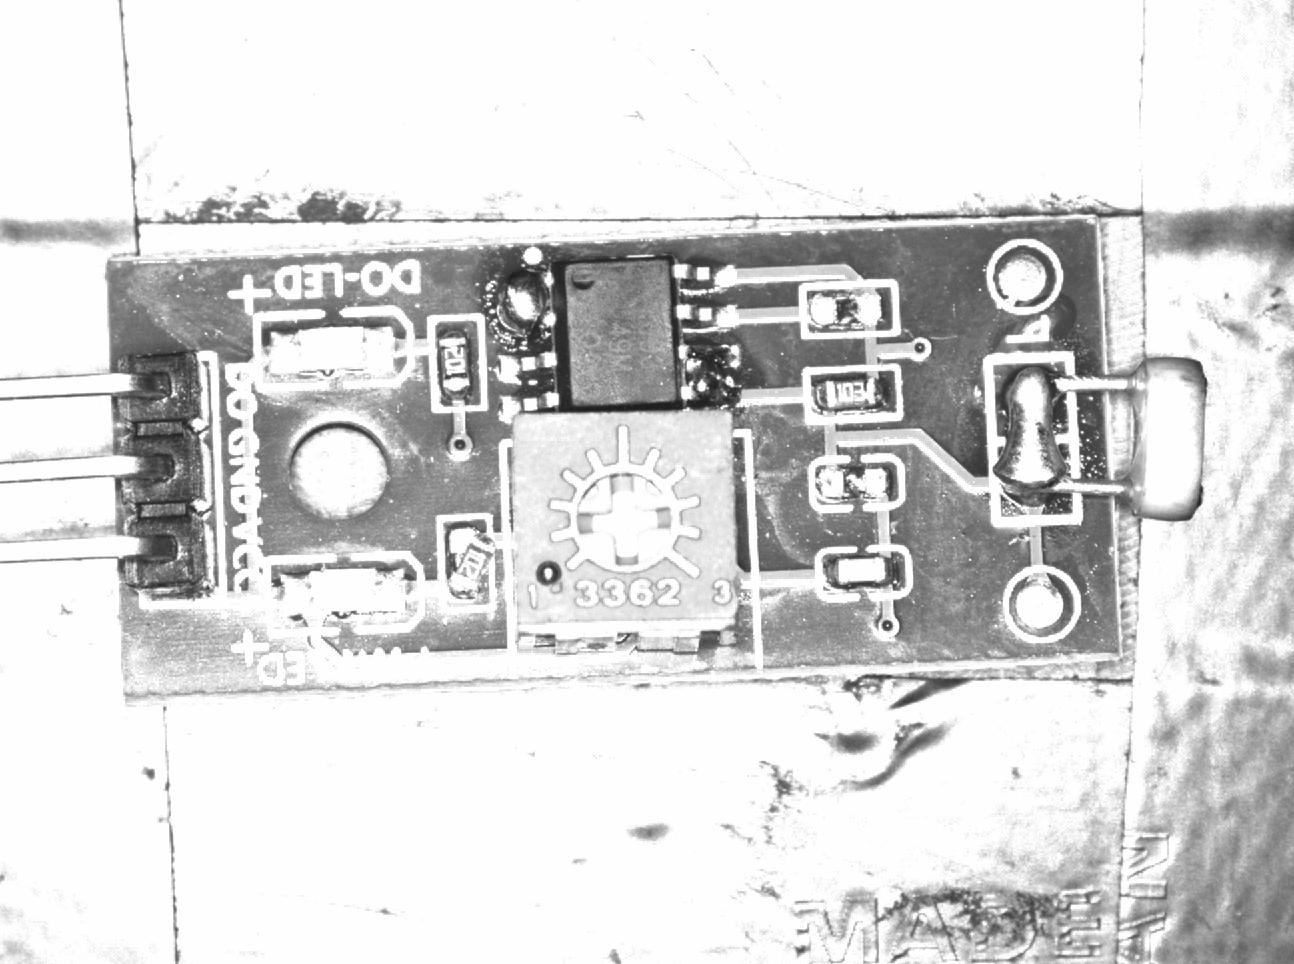bridge: (978, 354, 1084, 529), (496, 268, 558, 343), (678, 341, 741, 410)
lifted: (435, 513, 499, 613)
miss: (800, 280, 896, 336), (806, 457, 900, 507)
ok: (427, 318, 486, 409), (805, 368, 900, 421), (816, 548, 911, 601)
